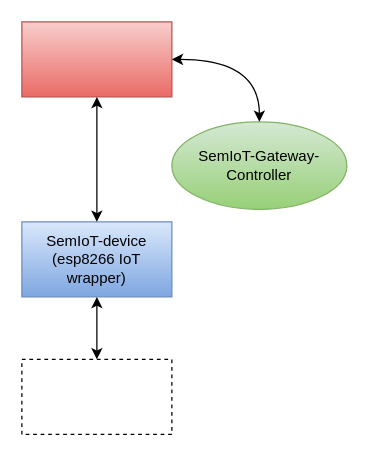
Image size: 369x456. Some labels were removed from this diagram. Each missing label, with the centre of its shape:
Actuator/Sensor: pixel 96 396
SemIoT-Gateway: pixel 96 59
